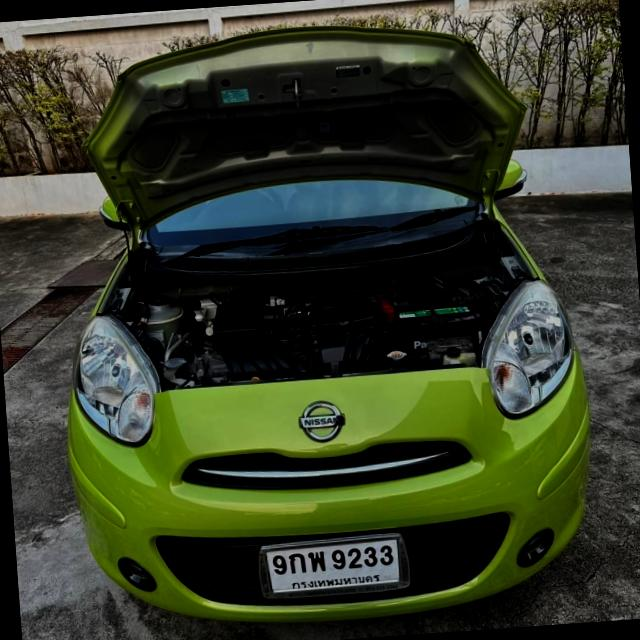license_plate: (254, 530, 416, 601)
